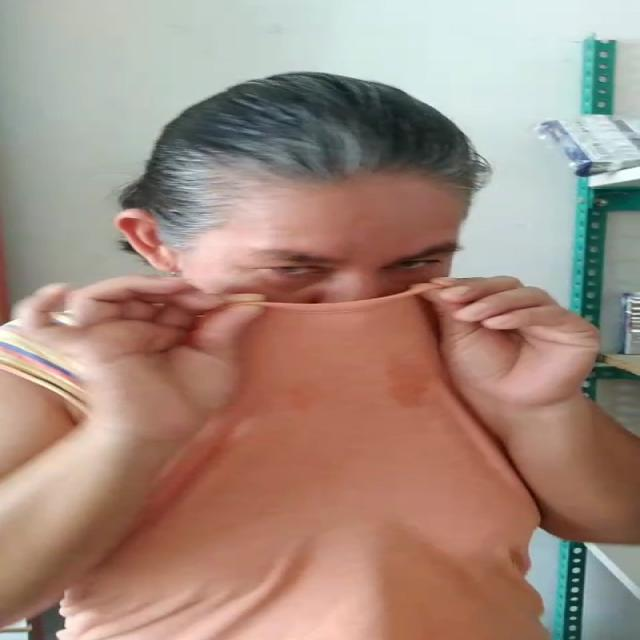8_ropa_rostro: (142, 276, 522, 422)
